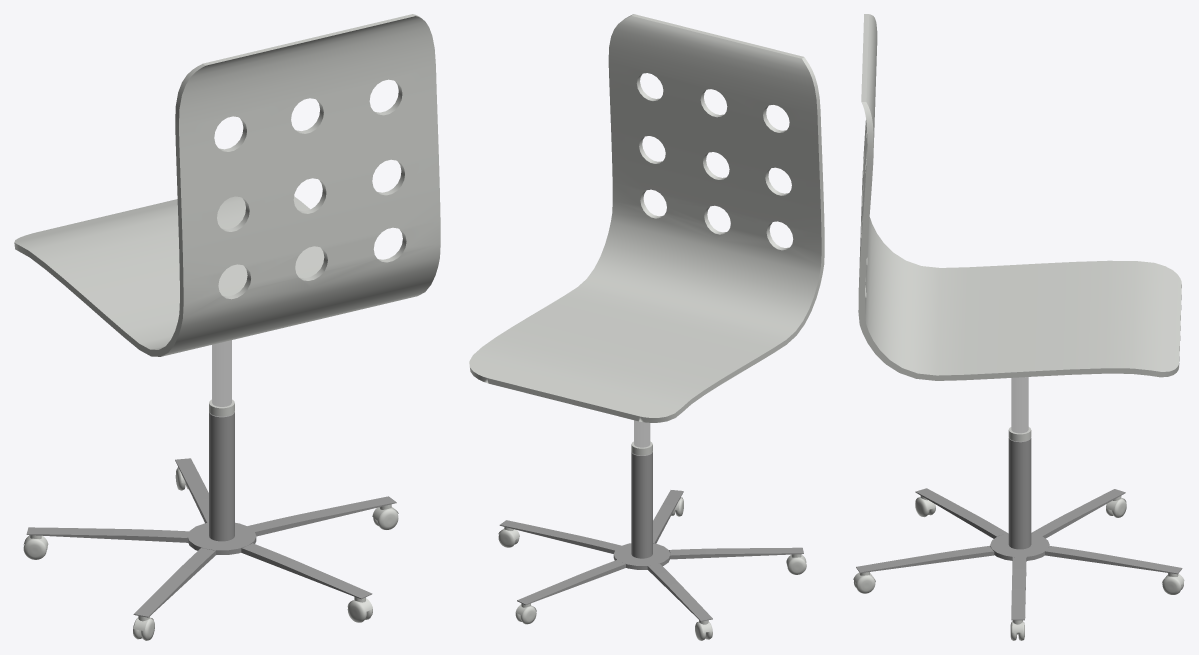
File: chair_4.glb
3 views of the same model, side by side, from view 1: azimuth 30°, elevation 25°; view 2: azimuth 150°, elevation 25°; view 3: azimuth 270°, elevation 25° (orthographic). The views are drawn at different scales.
Parts seen in each view (by area): view 1: IKE020019; view 2: IKE020019; view 3: IKE020019.
Boxes of the visible parts, x1,y1,x2,y2 form: IKE020019: (14,14,440,640); IKE020019: (469,14,824,640); IKE020019: (853,14,1184,640).
Size of the model in its own units: 61.2 by 110 by 64.13.
3 materials, 1 textured.
